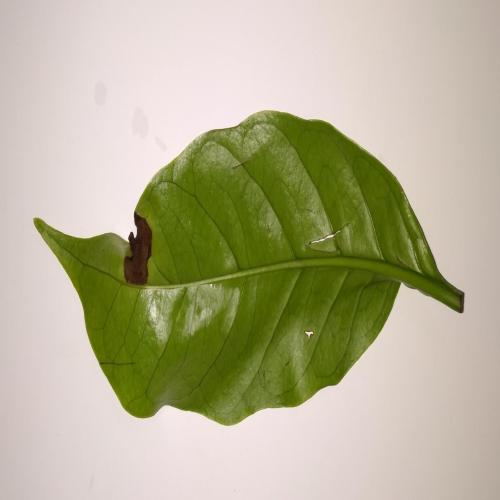miner: (124, 211, 152, 285)
